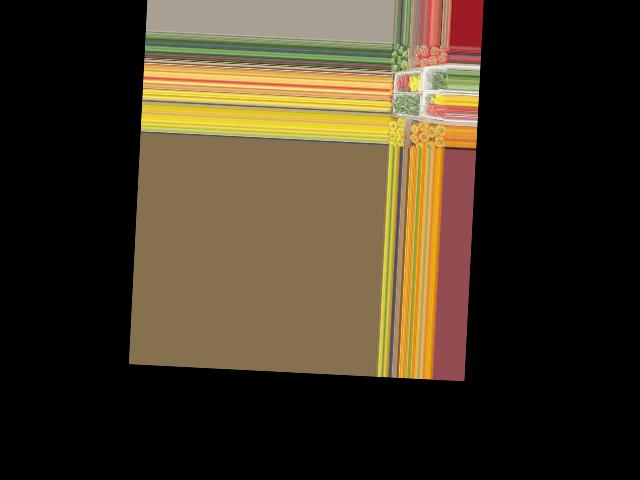bell_pepper: (399, 49, 410, 59)
